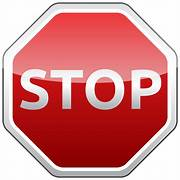stop: (2, 3, 175, 178)
